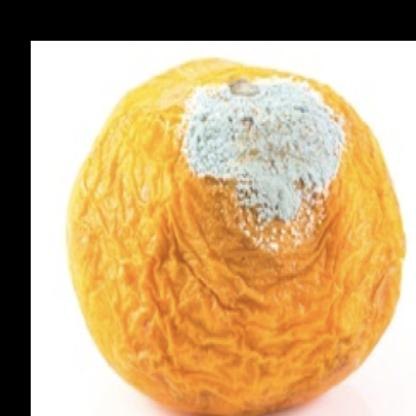rotten: (68, 62, 404, 416)
